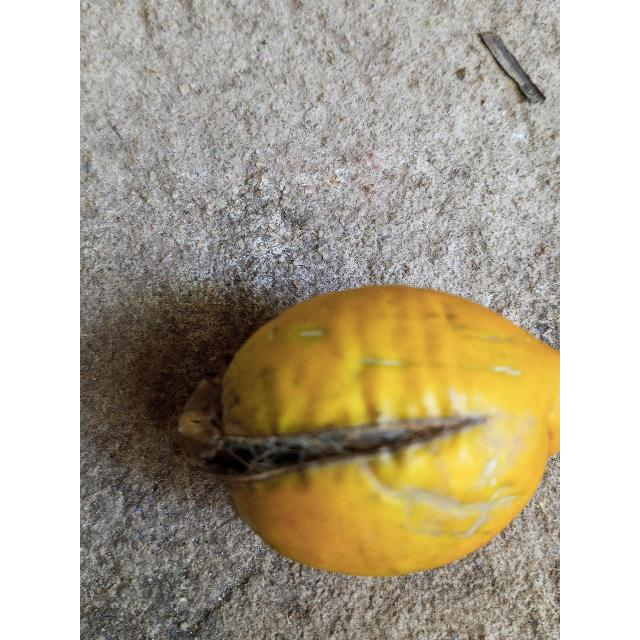damaged: (179, 286, 560, 580)
